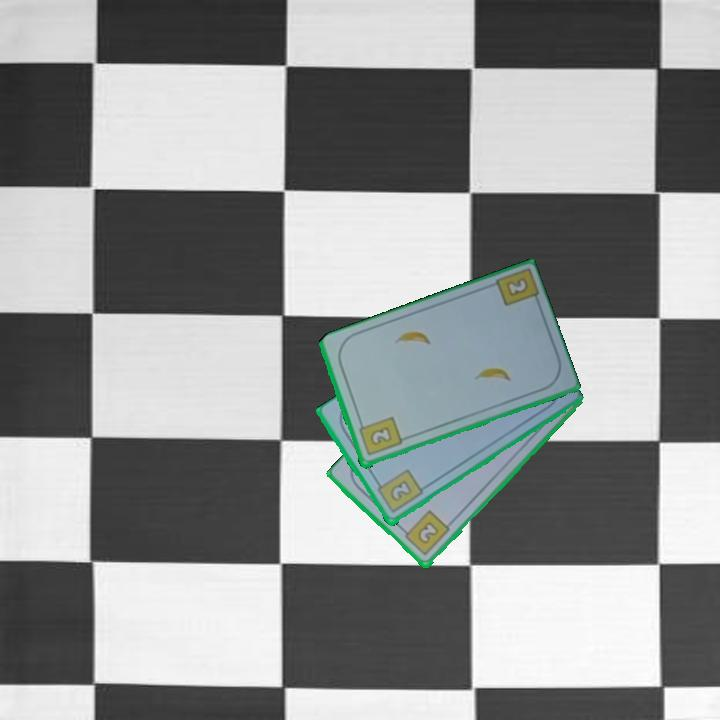2b: (398, 507, 453, 559), (372, 466, 425, 516), (490, 266, 542, 310), (355, 413, 404, 459)
